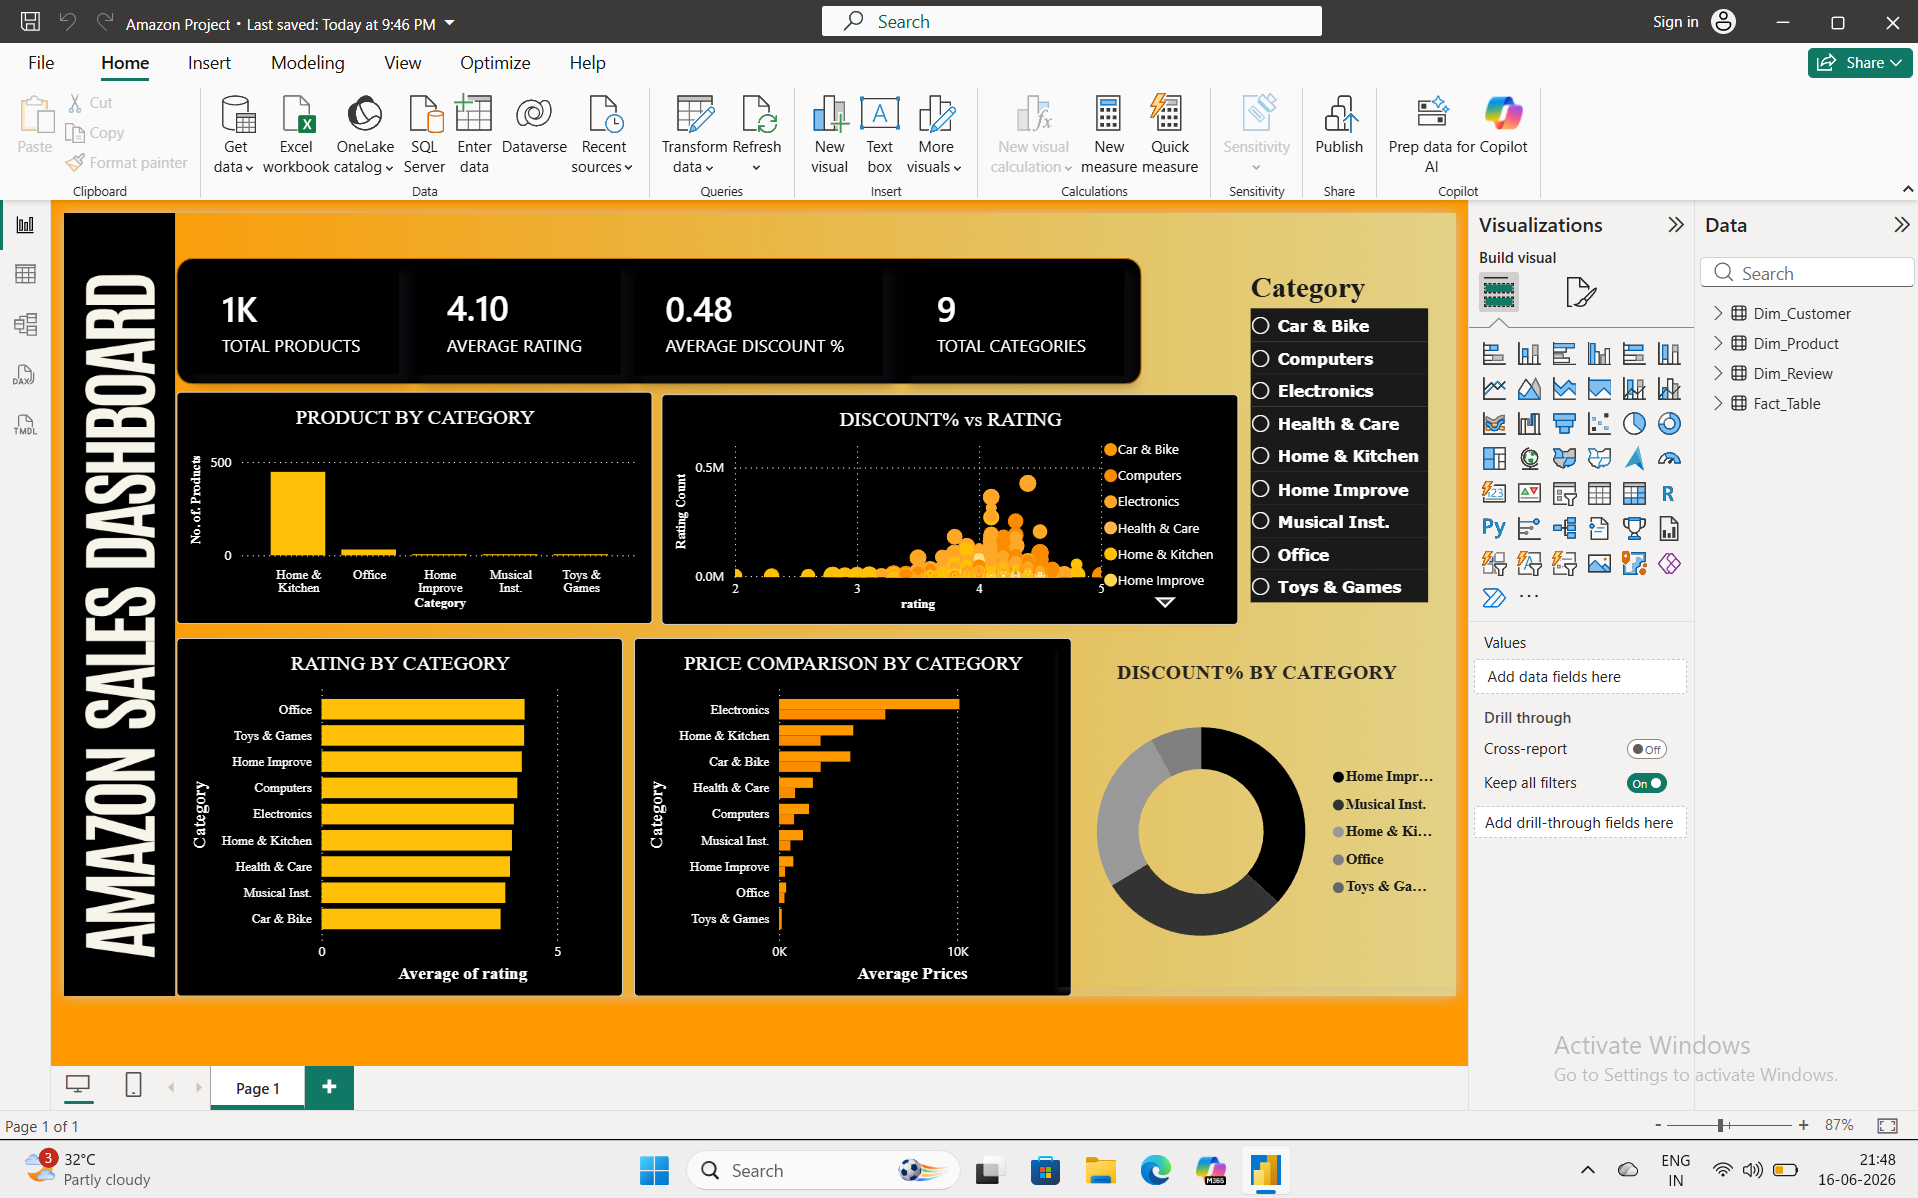

What the dashboard file says about the page in this screenshot:
{"tool":"powerbi","page":{"name":"Page 1","canvas":[1280,720],"ordinal":0},"visuals":[{"type":"clusteredBarChart","title":"RATING BY CATEGORY","fields":{"Category":["Dim_Product.Main category"],"Y":["Avg(Fact_Table.rating)"]},"box":[103.2,390.4,410.5,329.8],"z":0},{"type":"clusteredBarChart","title":"PRICE COMPARISON BY CATEGORY","fields":{"Category":["Dim_Product.Main category"],"Y":["Avg(Fact_Table.actual_price)","Avg(Fact_Table.discounted_price)"]},"box":[524.4,390.4,402.2,329.8],"z":1000},{"type":"scatterChart","title":"DISCOUNT% vs RATING","fields":{"X":["Fact_Table.rating"],"Y":["Fact_Table.rating_count"],"Size":["Avg(Fact_Table.discount_percentage)"],"Series":["Dim_Product.Main category"]},"box":[549.4,166.1,530.4,212.4],"z":2000},{"type":"donutChart","title":"       DISCOUNT% BY CATEGORY","fields":{"Y":["Fact_Table.AVERAGE DISCOUNT %"],"Category":["Dim_Product.Main category"]},"box":[913.6,399.9,366.6,312.1],"z":3000},{"type":"columnChart","title":"PRODUCT BY CATEGORY","fields":{"Category":["Dim_Product.Main category"],"Y":["Dim_Product.TOTAL PRODUCTS"]},"box":[103.2,164.9,437.8,213.6],"z":4000},{"type":"shape","box":[103.2,41.5,887.5,116.3],"z":5000},{"type":"cardVisual","fields":{"Data":["Dim_Product.TOTAL CATEGORIES"]},"box":[773.6,49.8,201.7,99.7],"z":6000},{"type":"cardVisual","fields":{"Data":["Fact_Table.AVERAGE DISCOUNT %"]},"box":[524.4,49.8,229,99.7],"z":7000},{"type":"cardVisual","fields":{"Data":["Fact_Table.AVERAGE RATING"]},"box":[322.7,48.6,188.7,100.9],"z":8000},{"type":"cardVisual","fields":{"Data":["Dim_Product.TOTAL PRODUCTS"]},"box":[116.3,49.8,192.2,98.5],"z":9000},{"type":"listSlicer","title":"Category","fields":{"Values":["Dim_Product.Main category"]},"box":[1079.7,41.5,200.5,333.4],"z":10000}]}

Visuals, with their boxes on the page's 1280x720 design canvas (x1, y1, x2, y2). These are canvas units, not pixel positions in the 1918x1198 screenshot, which may show the page scaled, cropped or inside an application window:
"RATING BY CATEGORY" clusteredBarChart: left=103, top=390, right=514, bottom=720
"PRICE COMPARISON BY CATEGORY" clusteredBarChart: left=524, top=390, right=927, bottom=720
"DISCOUNT% vs RATING" scatterChart: left=549, top=166, right=1080, bottom=378
"       DISCOUNT% BY CATEGORY" donutChart: left=914, top=400, right=1280, bottom=712
"PRODUCT BY CATEGORY" columnChart: left=103, top=165, right=541, bottom=378
shape: left=103, top=42, right=991, bottom=158
cardVisual - Dim_Product.TOTAL CATEGORIES: left=774, top=50, right=975, bottom=150
cardVisual - Fact_Table.AVERAGE DISCOUNT %: left=524, top=50, right=753, bottom=150
cardVisual - Fact_Table.AVERAGE RATING: left=323, top=49, right=511, bottom=150
cardVisual - Dim_Product.TOTAL PRODUCTS: left=116, top=50, right=308, bottom=148
"Category" listSlicer: left=1080, top=42, right=1280, bottom=375
